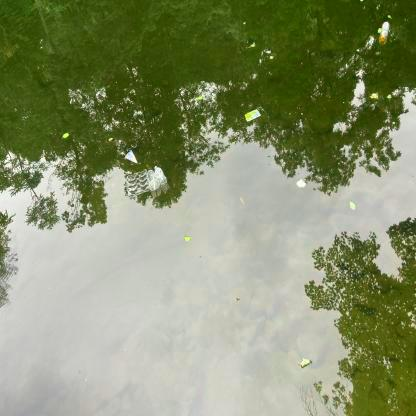Plastic: (126, 166, 167, 196), (374, 18, 392, 47), (123, 148, 140, 166)
